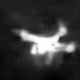plane: (12, 20, 78, 66)
